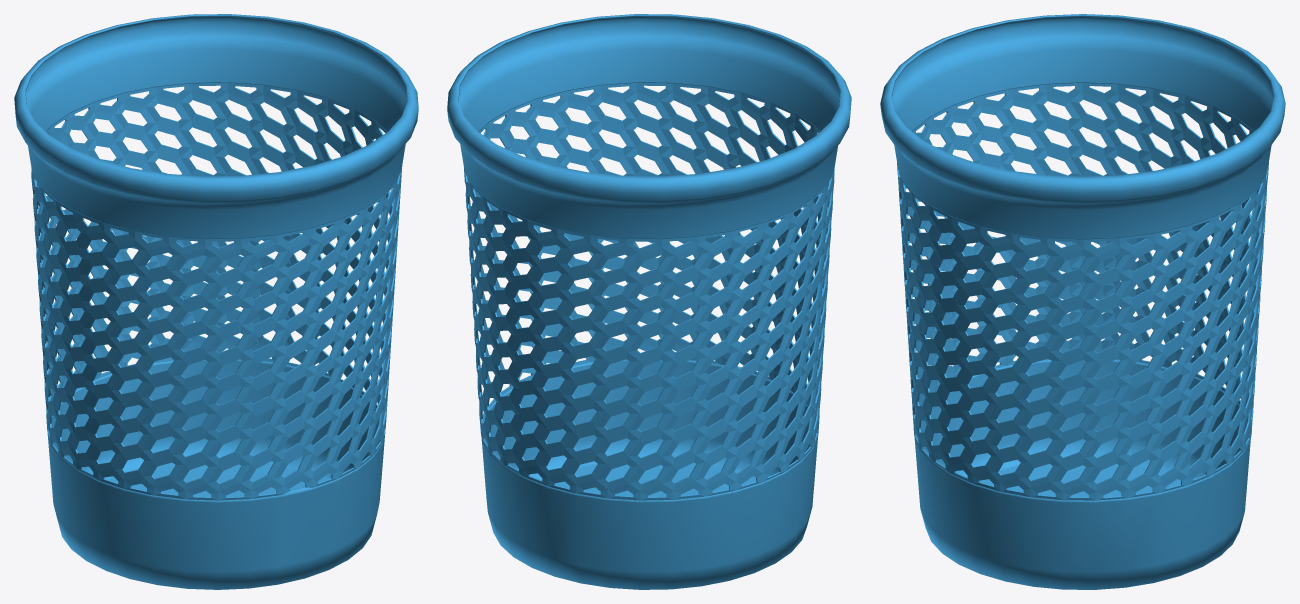
Rendered from Trach Can.fbx.
3 renders of one model, left to right at view 1: azimuth 30°, elevation 25°; view 2: azimuth 150°, elevation 25°; view 3: azimuth 270°, elevation 25°, orthographic.
Visible parts, largest first — view 1: Circle; view 2: Circle; view 3: Circle.
Boxes of the visible parts, x1,y1,x2,y2 form: Circle: (14, 14, 418, 589); Circle: (447, 14, 851, 589); Circle: (880, 14, 1285, 589).
Bounding box in the file's own units: 30 × 35 × 30.
